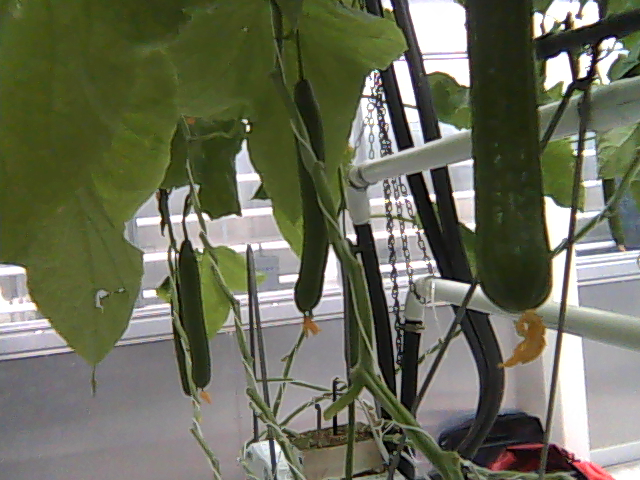concombre: (462, 1, 558, 370), (292, 68, 331, 337)
